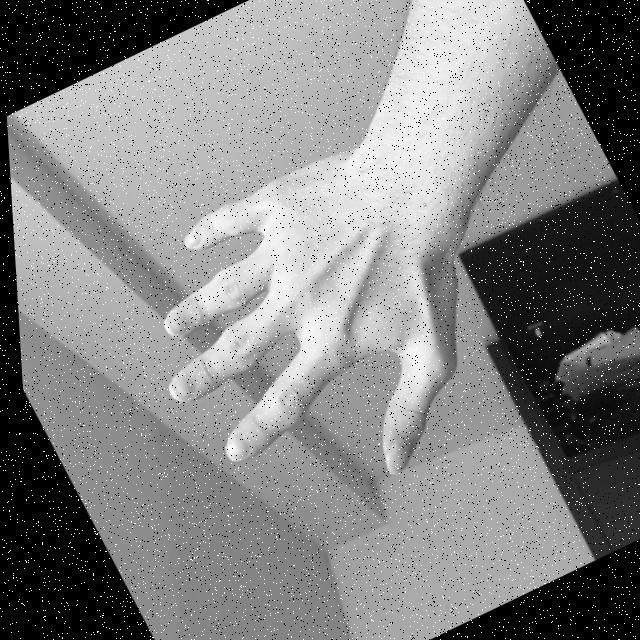no-gloves: (90, 139, 506, 547)
